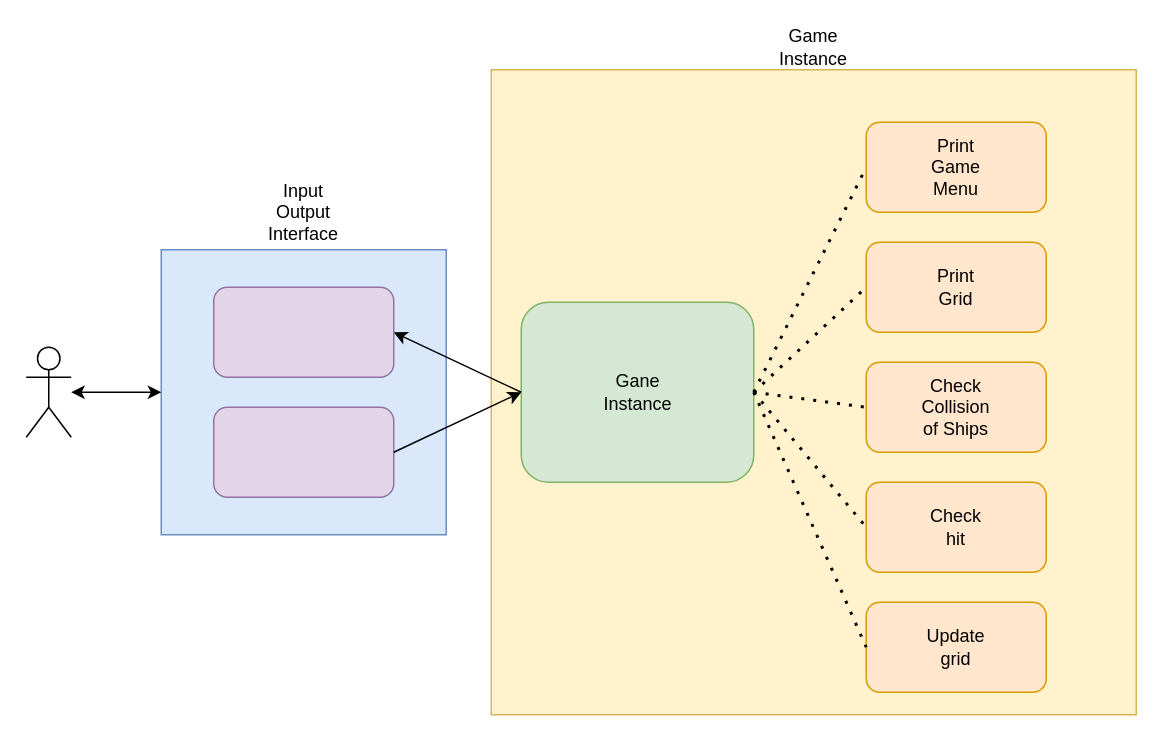
The diagram is 1163 pixels wide and 741 high, and some of its shapes have lost their labels. The shapes that lost their labels are listed below. From the top down, each one's box as (x1, y1, x2, y2) in pixels, then its label:
(212, 286, 394, 377): Display (CLI)
(25, 346, 71, 437): User
(212, 406, 394, 497): Keyboard
